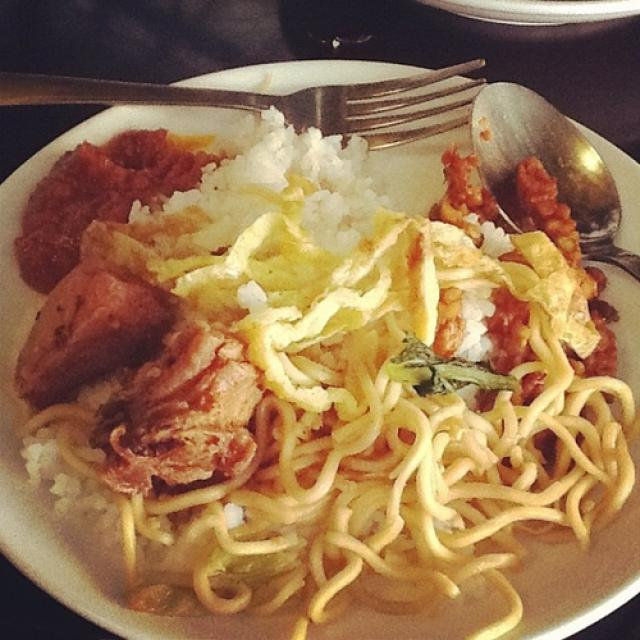米饭主食: (23, 52, 620, 616)
